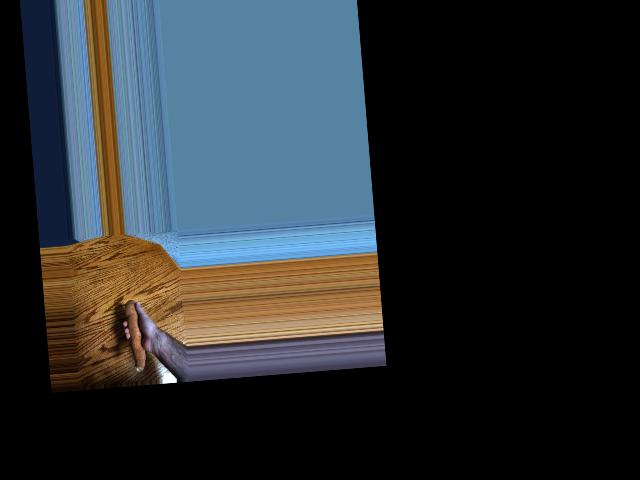sweet_potato: (122, 298, 152, 374)
